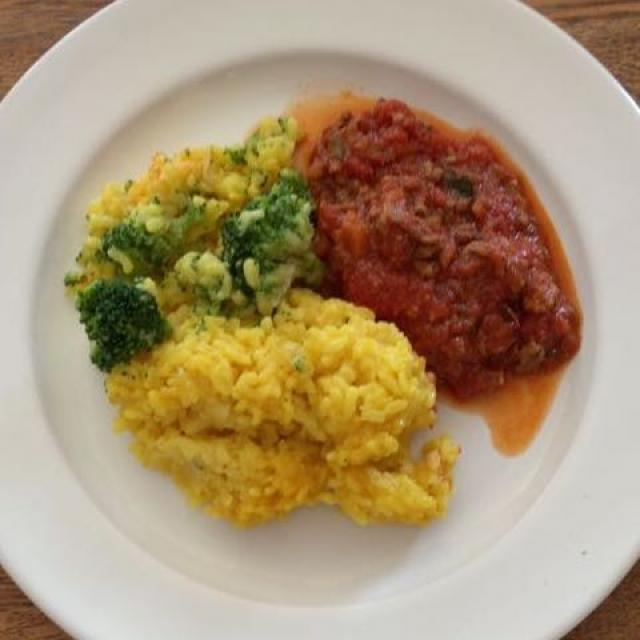bolognaise-sauce: (308, 104, 585, 405)
broccoli: (64, 154, 327, 376)
fried-rice: (114, 288, 466, 526)
